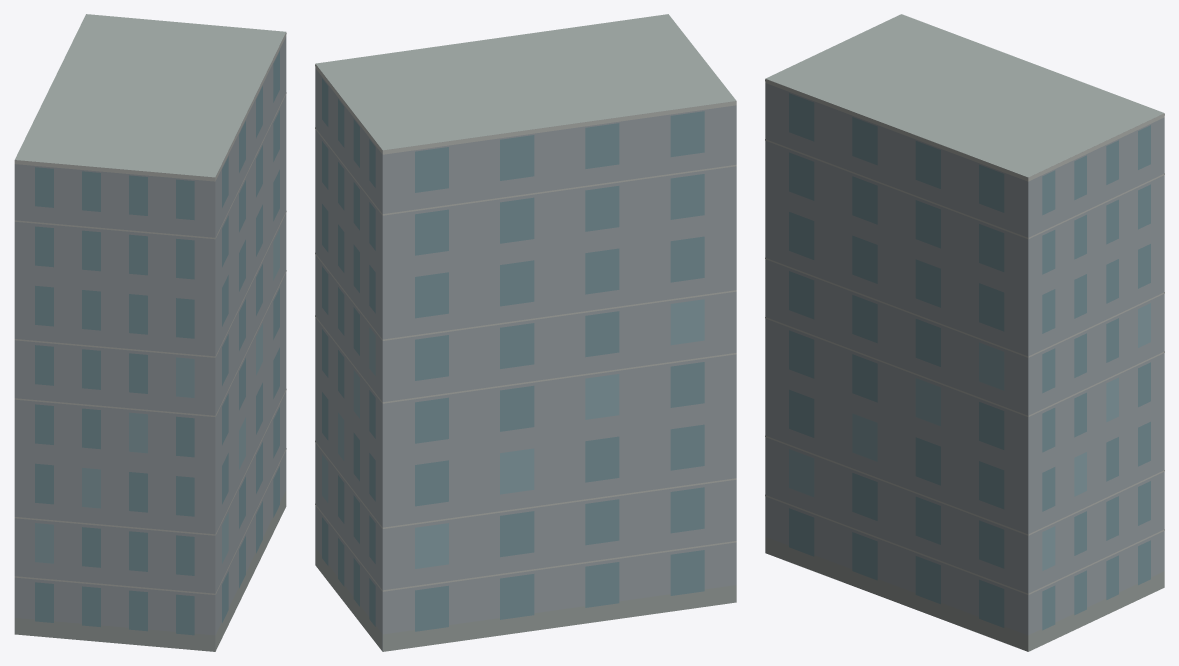
The model's file is survey-upis-32522802.glb.
3 views of the same model, side by side, from view 1: azimuth 30°, elevation 25°; view 2: azimuth 150°, elevation 25°; view 3: azimuth 270°, elevation 25° (orthographic). The views are drawn at different scales.
Visible parts, largest first — view 1: survey-upis-32522802.tmp; view 2: survey-upis-32522802.tmp; view 3: survey-upis-32522802.tmp.
Part boxes in pixels (bbox=[...]): survey-upis-32522802.tmp: bbox=[14, 14, 286, 651]; survey-upis-32522802.tmp: bbox=[315, 14, 736, 651]; survey-upis-32522802.tmp: bbox=[765, 14, 1164, 651].
Bounding box in the file's own units: 20.65 × 27.9 × 21.31.
